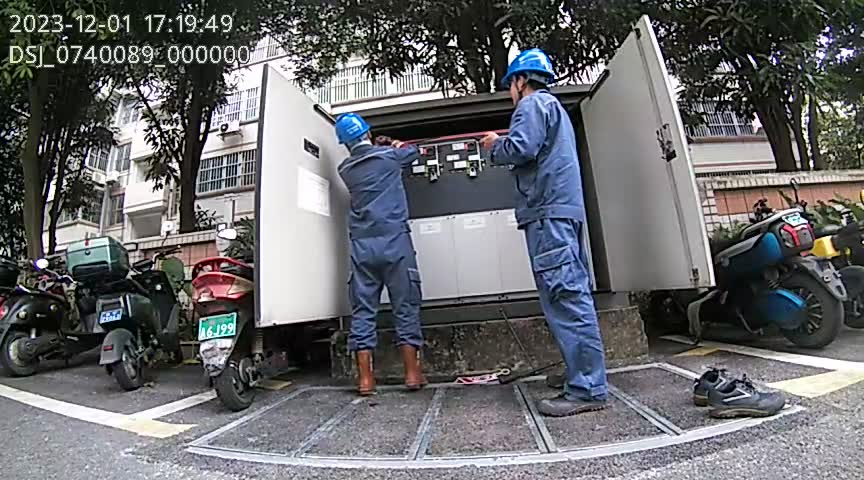halt: (504, 52, 558, 99), (339, 117, 375, 152)
inear: (512, 75, 534, 100)
